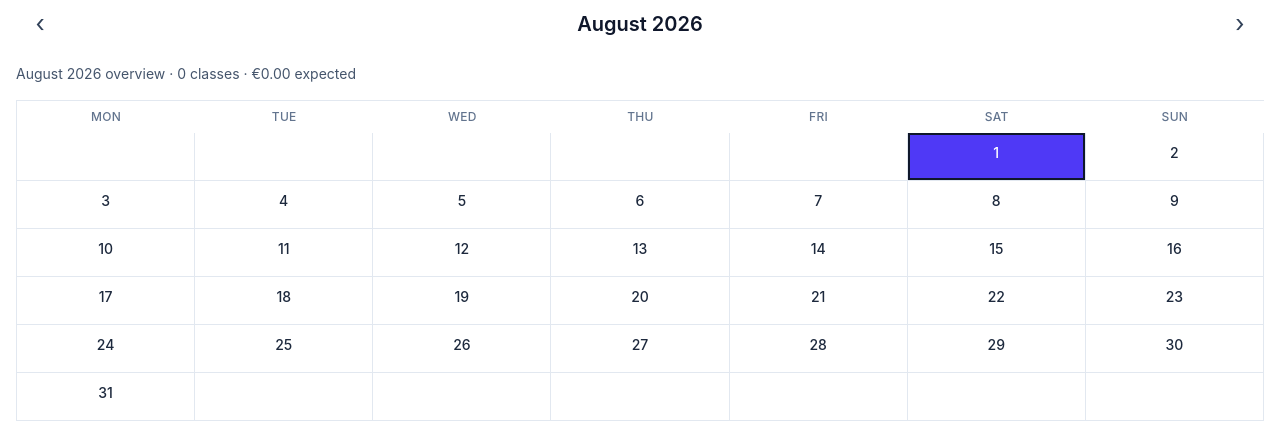
Scenario: CalendarTab mobile presentation › does not replace a date the user selected before cache data arrives
The width and height of the screenshot is (1280, 438).
Click the button "3" at (106, 205), box x1=17 y1=181 x2=195 y2=229
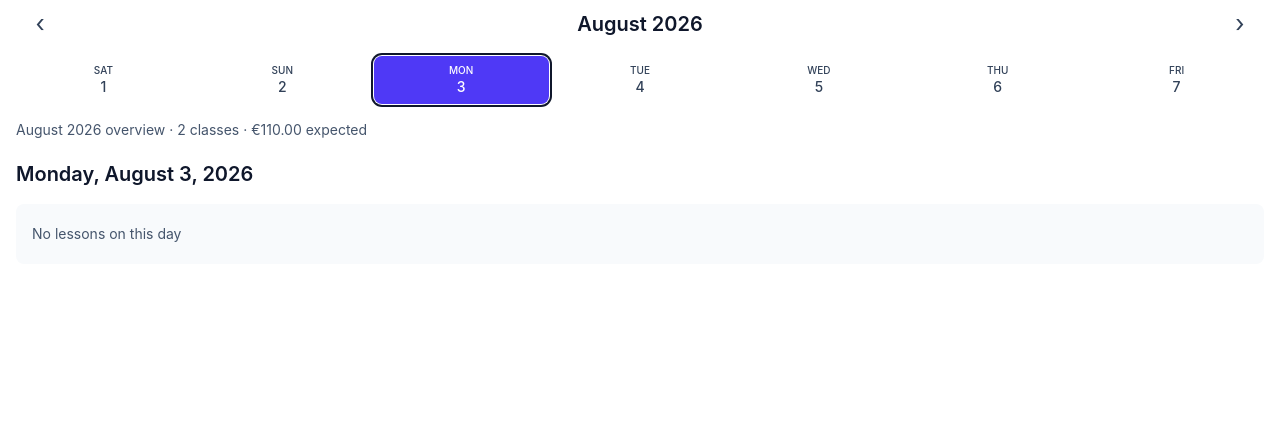
Now the text "Monday, August 3, 2026" is shown, box x1=16 y1=162 x2=253 y2=186
